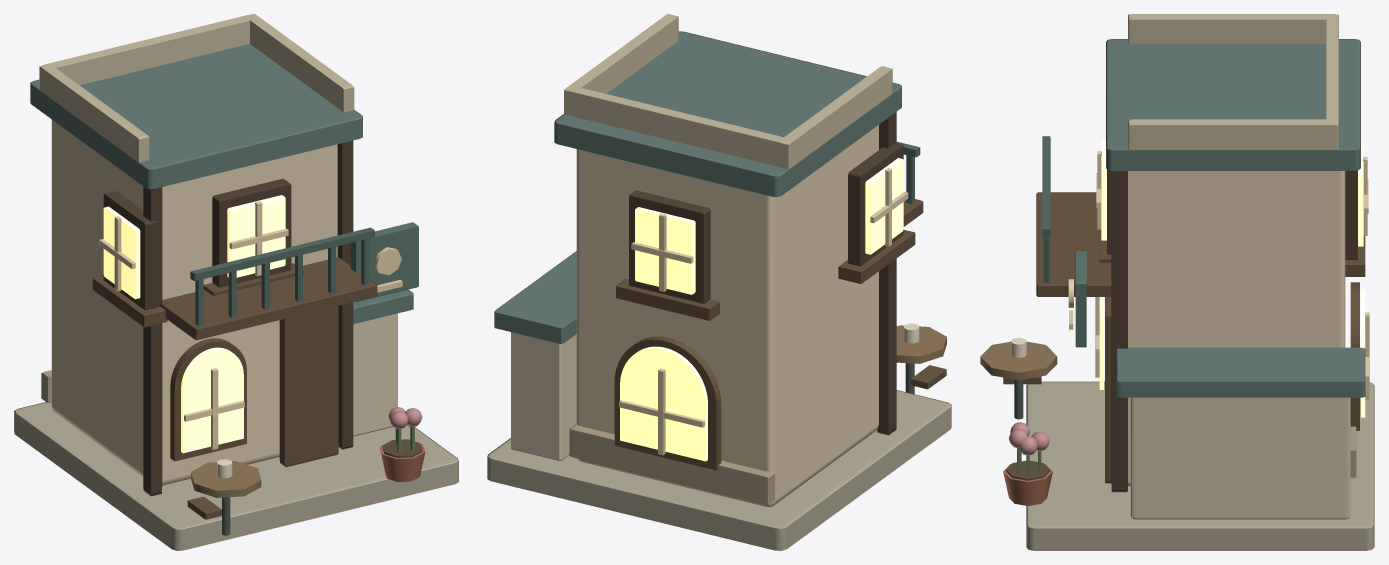
Rendered from cafe-3.glb.
The picture shows the model from 3 angles, left to right: view 1: azimuth 30°, elevation 25°; view 2: azimuth 150°, elevation 25°; view 3: azimuth 270°, elevation 25°; orthographic projection. The views are drawn at different scales.
Visible parts, largest first — view 1: cafe-3-0; view 2: cafe-3-0; view 3: cafe-3-0.
Part boxes in pixels (x1,y1,x2,y2): cafe-3-0: (14,14,458,550); cafe-3-0: (487,14,951,550); cafe-3-0: (980,14,1374,550).
Size of the model in its own units: 1.9 by 2.38 by 2.15.
